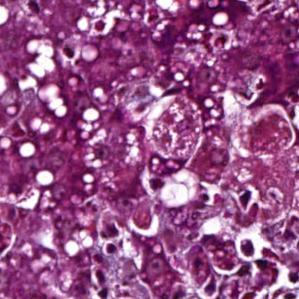ballooning: (139, 163, 200, 207)
